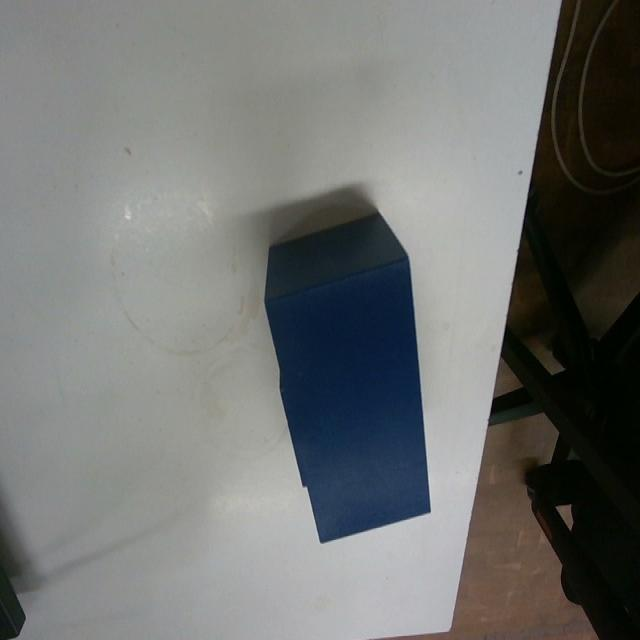Blue Cuboid: (261, 207, 433, 544)
